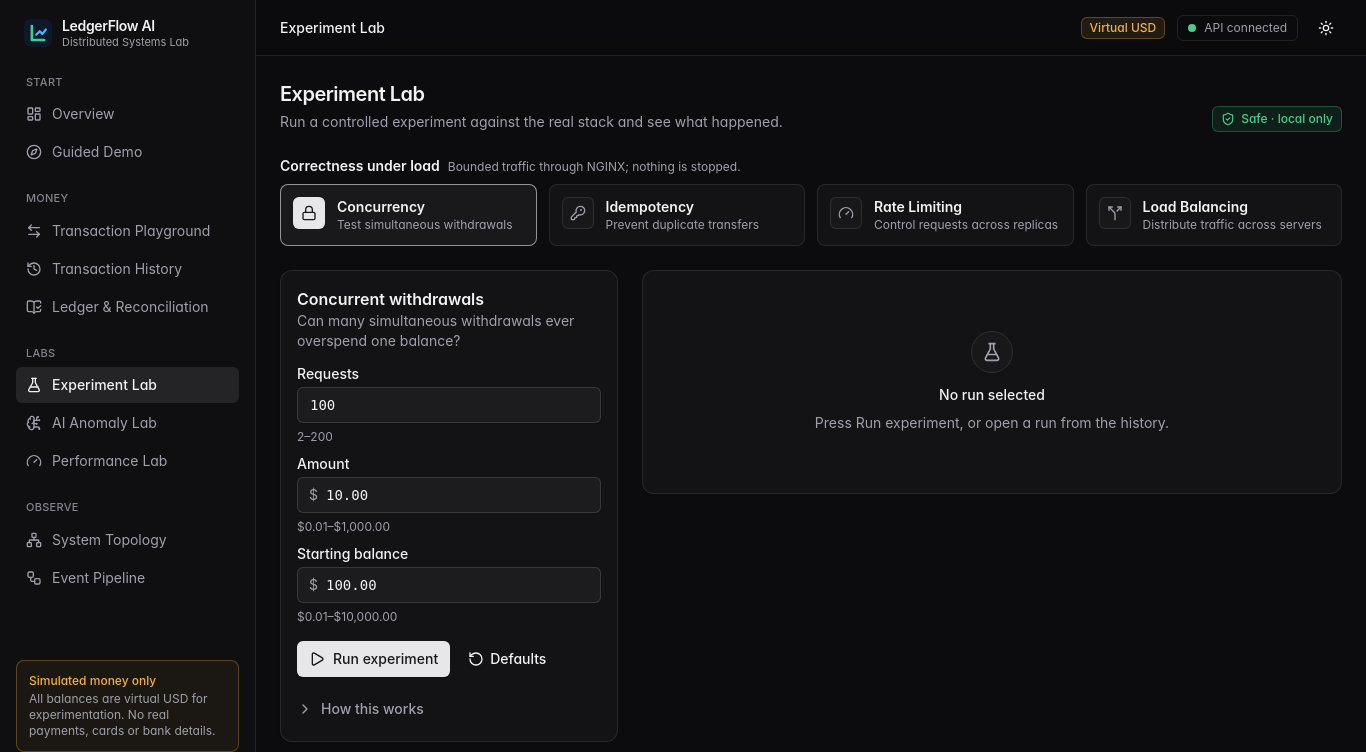
Scenario: experiment selection and configuration › keeps the safety note one click away
This screenshot has width=1366, height=752.
Click the button "Safe · local only": (1277, 119) x1=1212 y1=106 x2=1342 y2=132
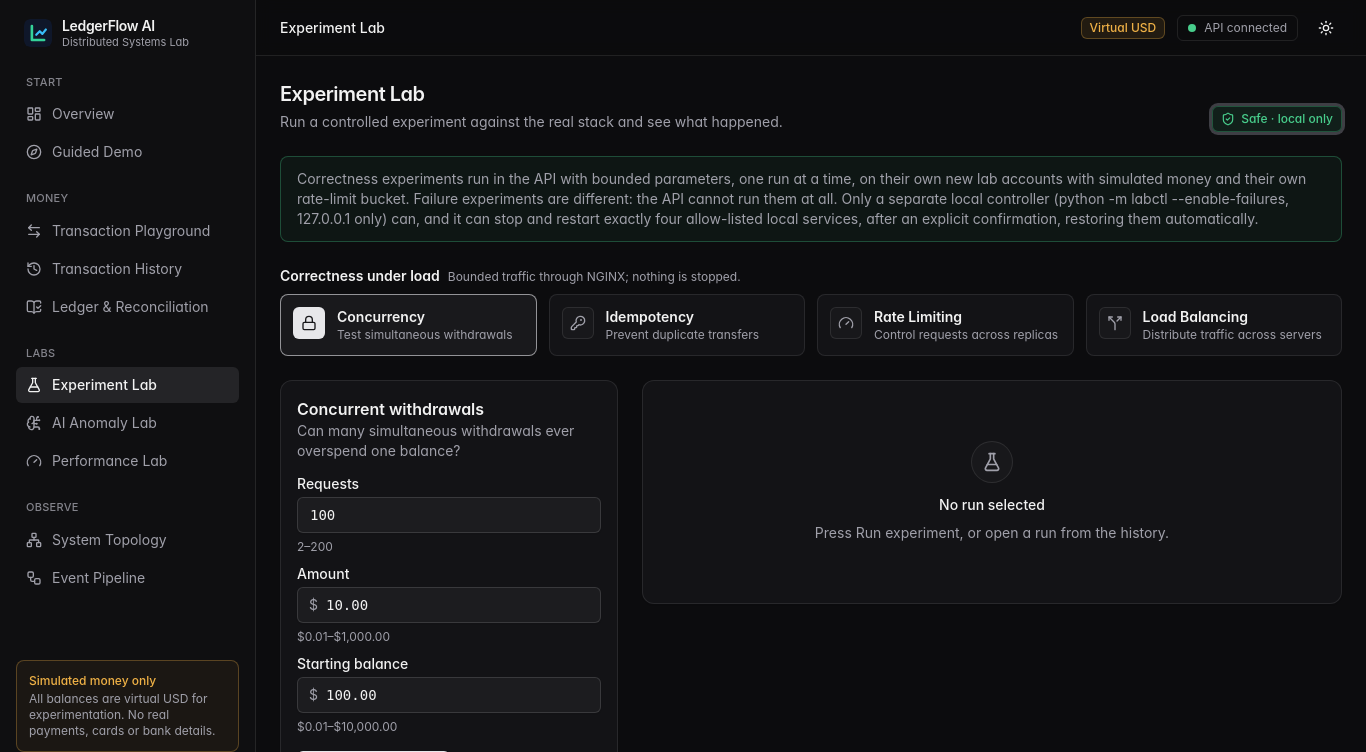
Expected: the text "the API cannot run them at all" is shown, x1=297 y1=170 x2=1306 y2=227
